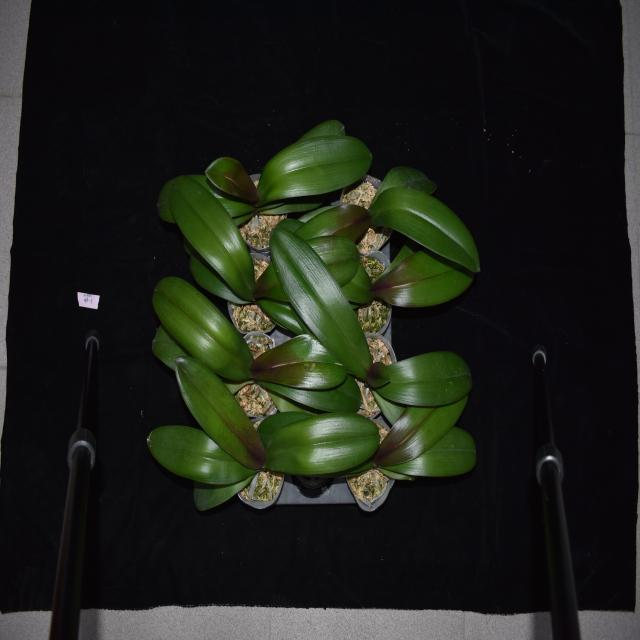leaf: (272, 223, 368, 377), (170, 352, 267, 471), (166, 175, 258, 296), (363, 187, 484, 277), (146, 285, 255, 381), (267, 410, 378, 482), (250, 140, 372, 202), (146, 421, 258, 485), (376, 405, 467, 472), (252, 332, 352, 390), (384, 349, 474, 408), (369, 256, 477, 304), (157, 168, 252, 222), (257, 379, 364, 415), (388, 432, 478, 474), (206, 146, 260, 206), (370, 159, 437, 205), (297, 202, 372, 242), (311, 232, 362, 286), (254, 290, 304, 338), (196, 474, 254, 506), (294, 120, 354, 147), (363, 361, 391, 393)
